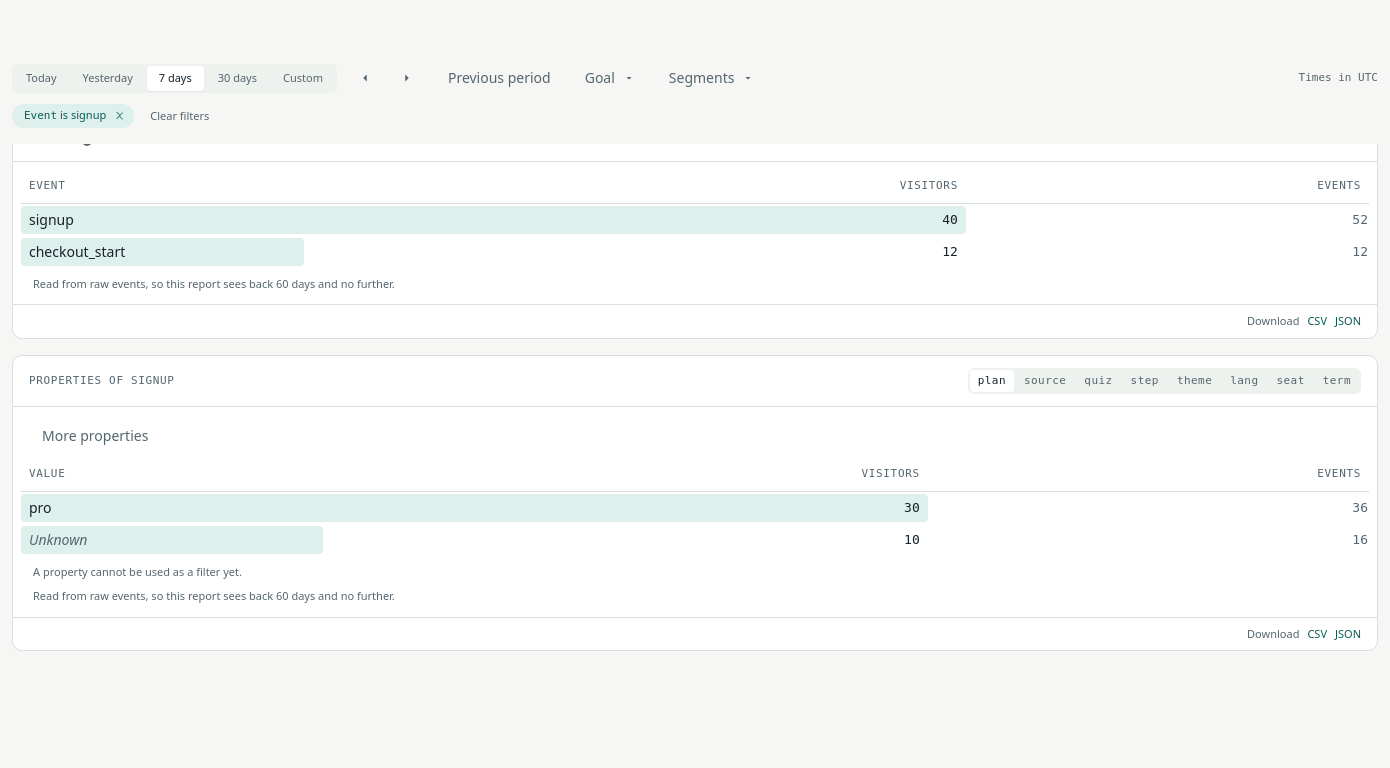
Events, the properties of one › keeps the names past the eighth behind one button, a dot in a name included
The width and height of the screenshot is (1390, 768).
Check: the text "pro" is shown, box [29,497,52,518]
Check: the tab "ab.test" is not shown
Click the button "More properties".
click(95, 437)  # box [29,419,161,454]
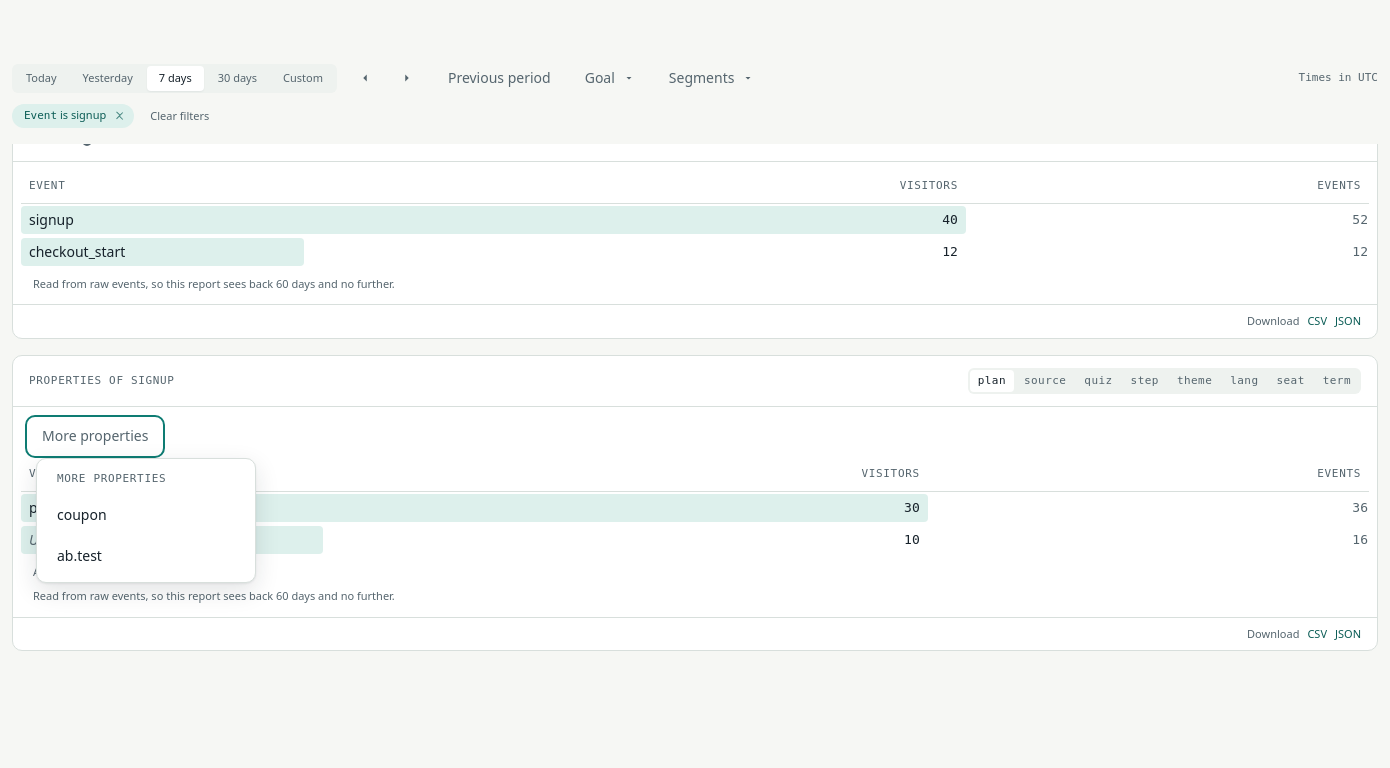
Click the button "ab.test".
click(146, 555)  # box [45,537,247,574]
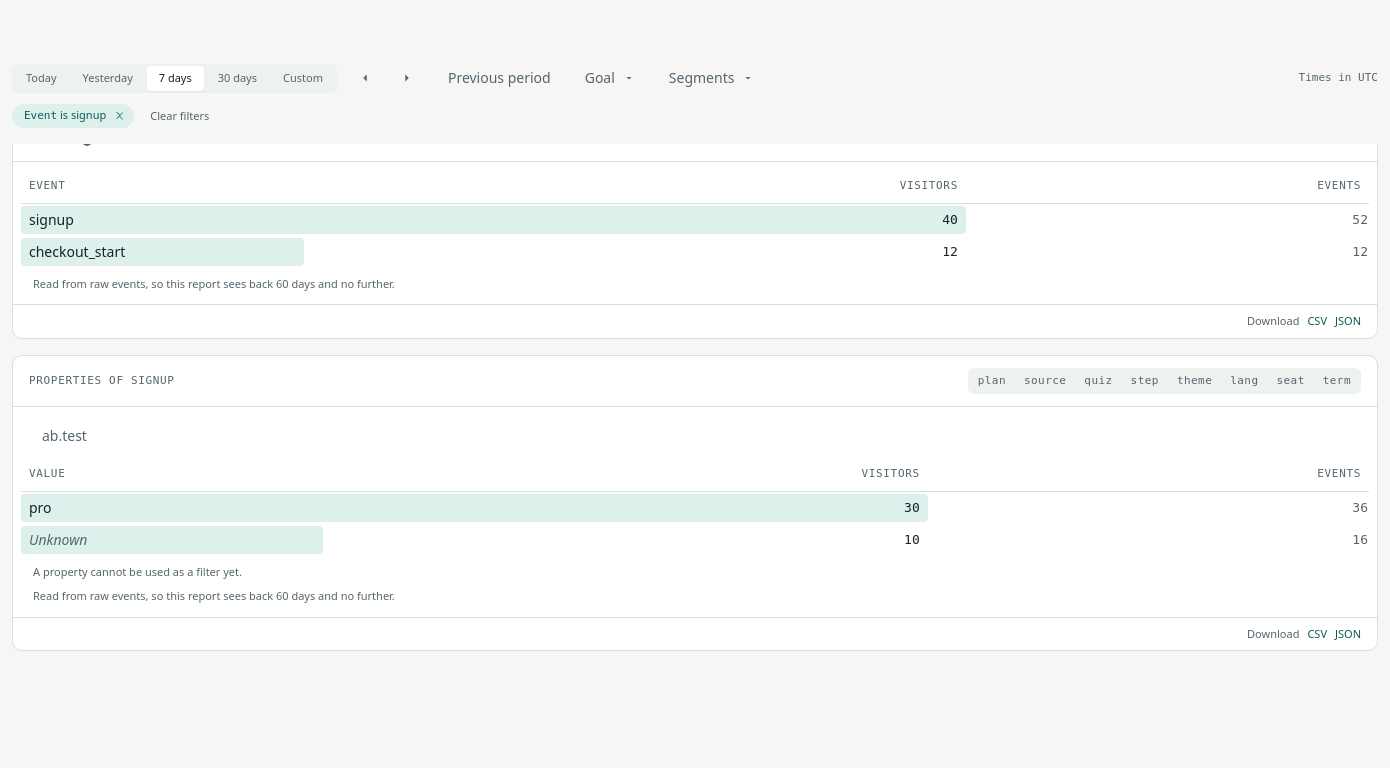
Check: the button "ab.test" is shown, box [29,419,100,454]
